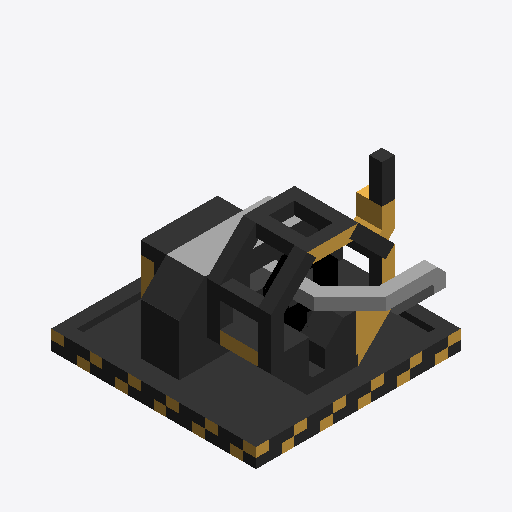
A Minecraft block model of 66 cuboids, rendered isometrically (azimuth 45°, elevation 35.3°) with the resource pack's own textures.
Parts seen in each view (by area): element 1, element 46, element 45, element 7, element 8, element 10, element 6, element 35, element 48, element 60, element 27, element 19 (+18 smaller).
Part boxes in pixels (x1,y1,x2,y2): element 1: (83,299,428,431); element 46: (243,322,460,468); element 45: (64,329,254,460); element 7: (141,299,204,379); element 8: (167,196,306,364); element 10: (141,254,204,320); element 6: (141,196,242,265); element 35: (220,308,308,365); element 48: (51,277,140,357); element 60: (314,286,385,310); element 27: (258,245,315,319); element 19: (207,216,257,284).
Size of the model in its own units: 16 by 12.83 by 16.